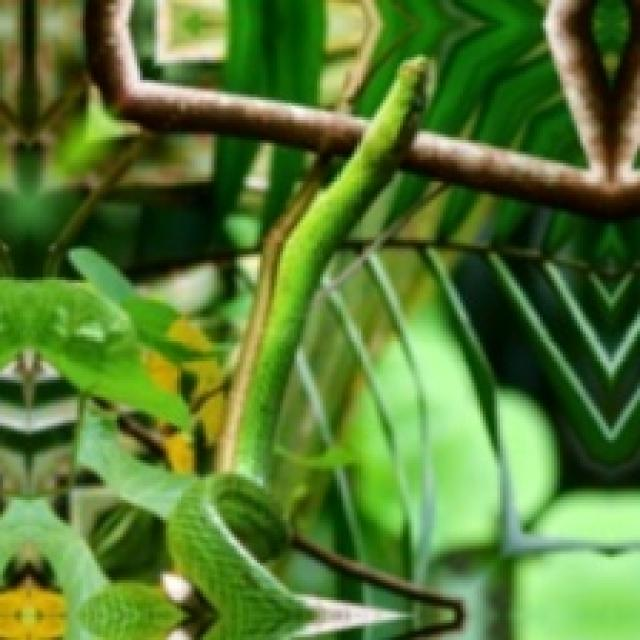red-tailed green ratsnake: (168, 58, 424, 639)
